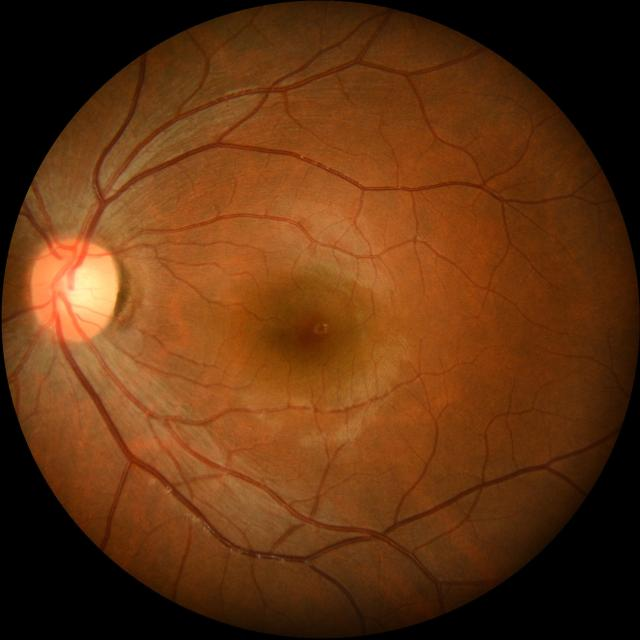OC: (52, 262, 99, 318)
OD: (30, 238, 118, 342)
